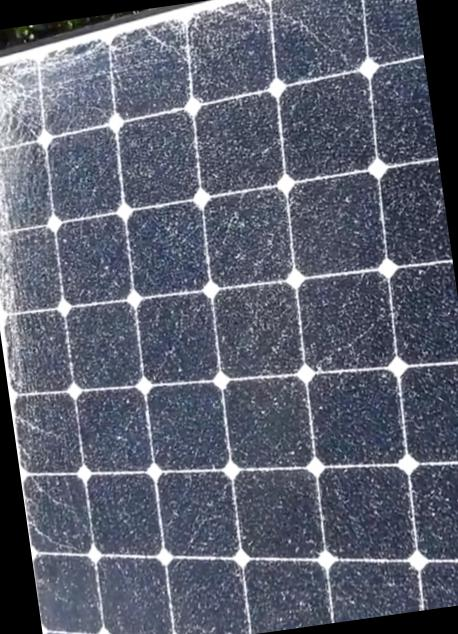Crack: (0, 5, 457, 633), (55, 0, 316, 81), (0, 61, 41, 393), (0, 51, 64, 157)
